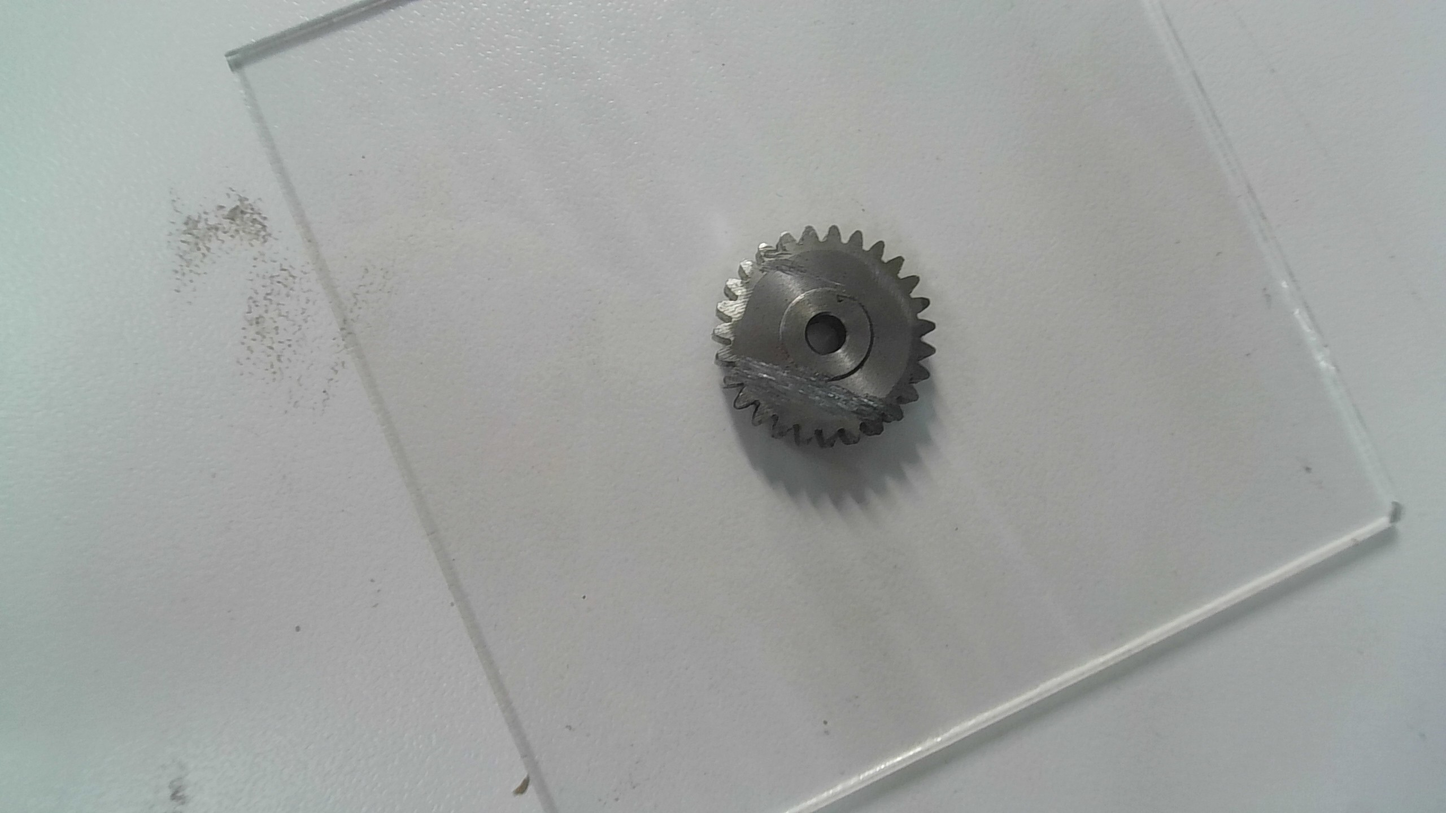gear: (713, 220, 936, 453)
